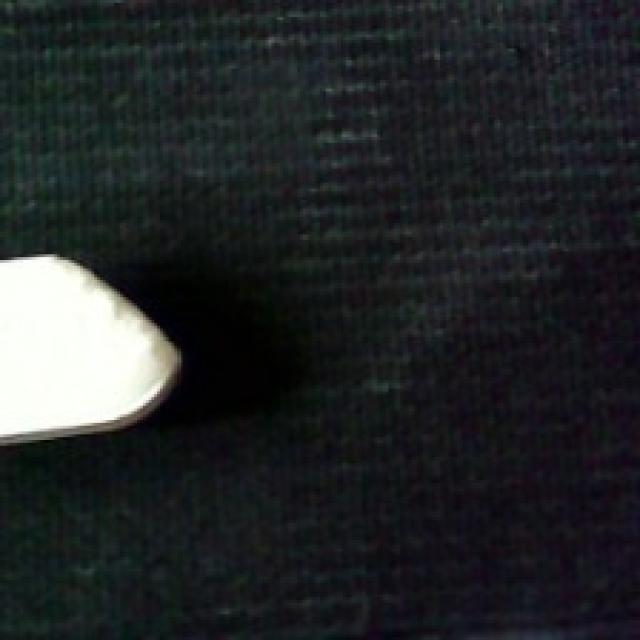defected: (0, 243, 186, 448)
